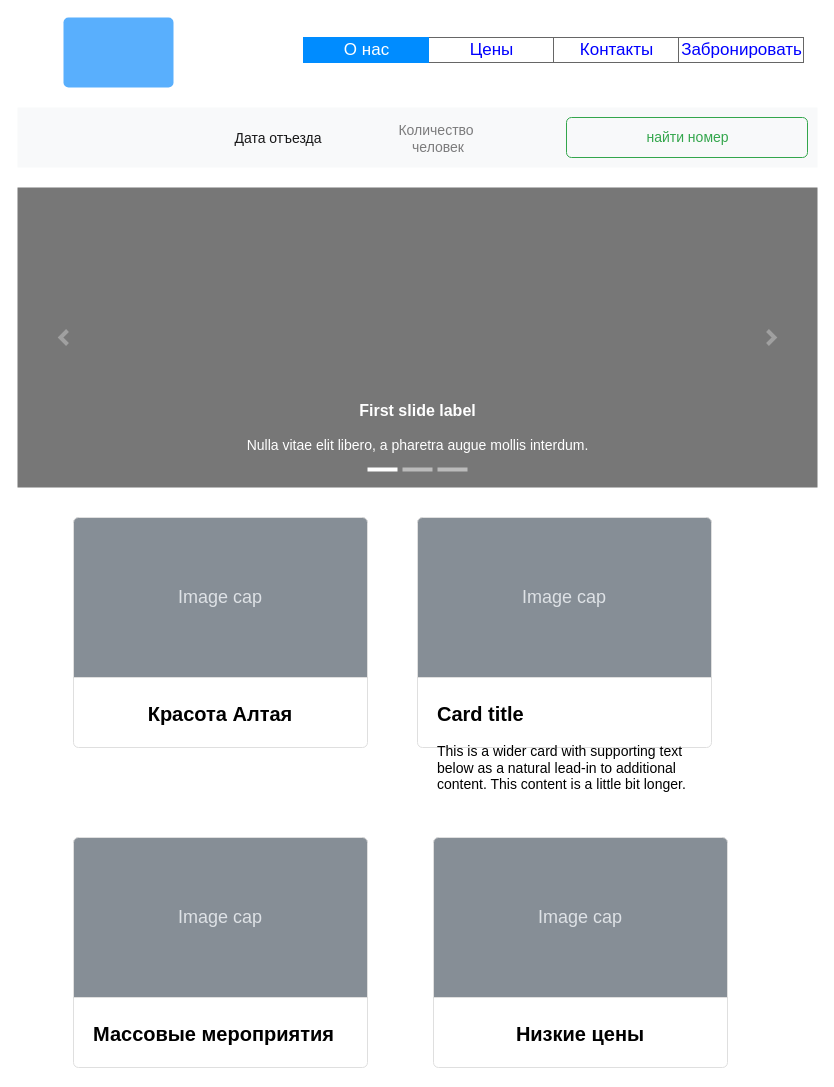
This 834x1087 diagram has some shape labels left out. Each missing label, with the box of its shape:
First slide: (17, 187, 817, 487)
Дата заезда: (17, 107, 817, 167)
логотип: (63, 17, 173, 87)
